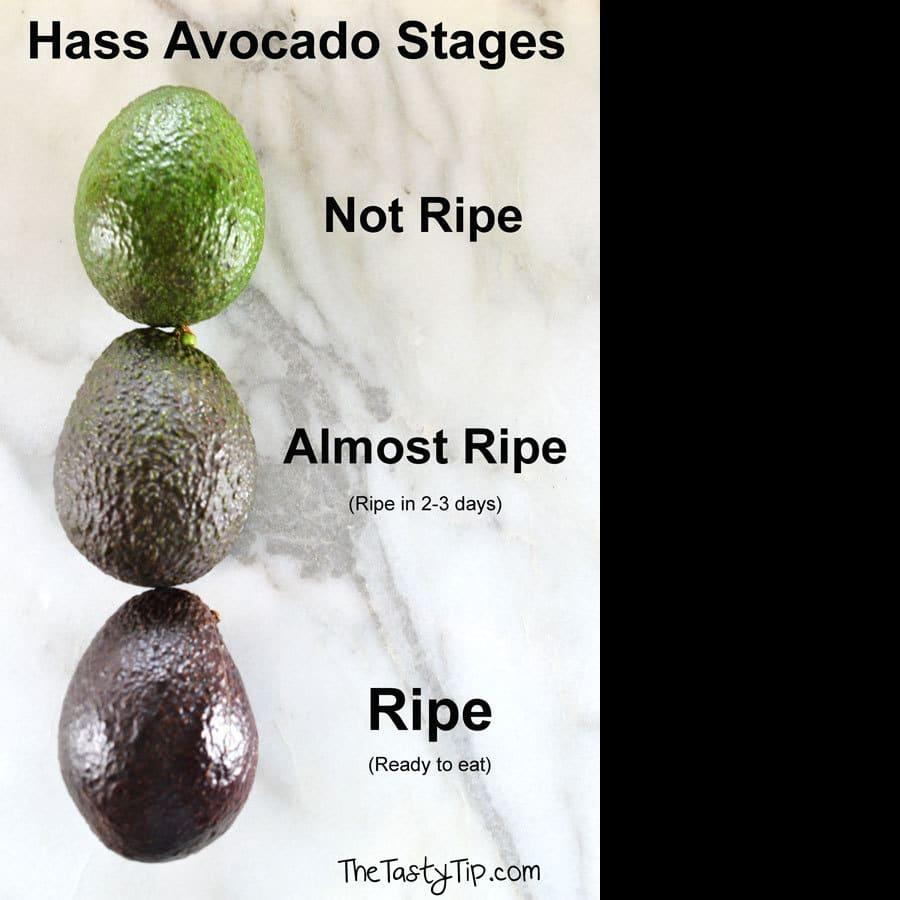almost: (53, 328, 259, 590)
ripe: (59, 589, 258, 863)
unripe: (73, 86, 267, 328)
